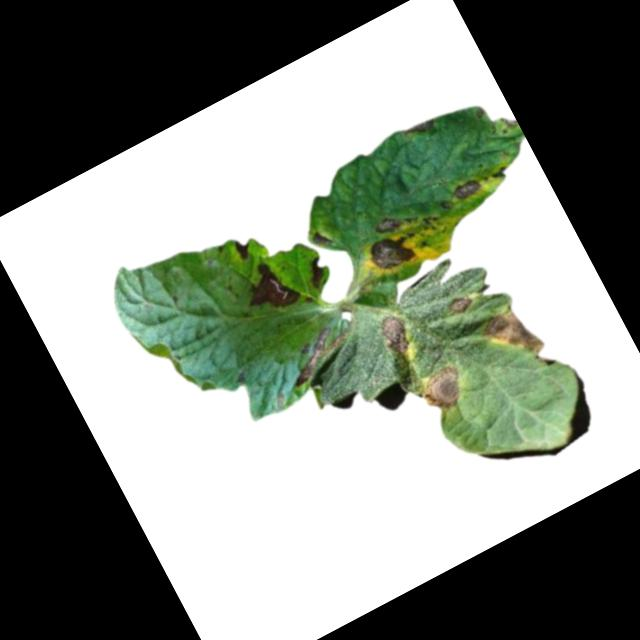Early_blight: (278, 318, 361, 389), (233, 251, 305, 325), (478, 297, 550, 369), (410, 359, 472, 418), (364, 228, 418, 278), (371, 307, 418, 360), (400, 112, 440, 142), (301, 255, 332, 290), (446, 288, 478, 318), (370, 209, 402, 239), (450, 176, 482, 203), (232, 236, 255, 260), (489, 161, 510, 183)
